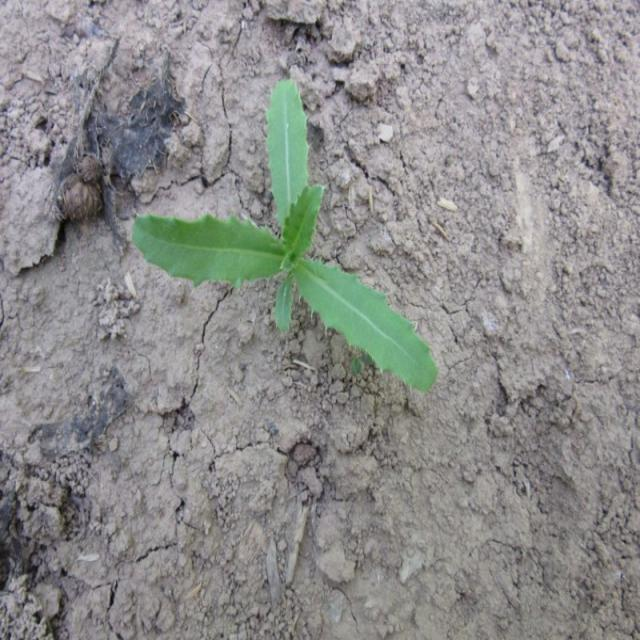cs: (131, 77, 440, 401)
